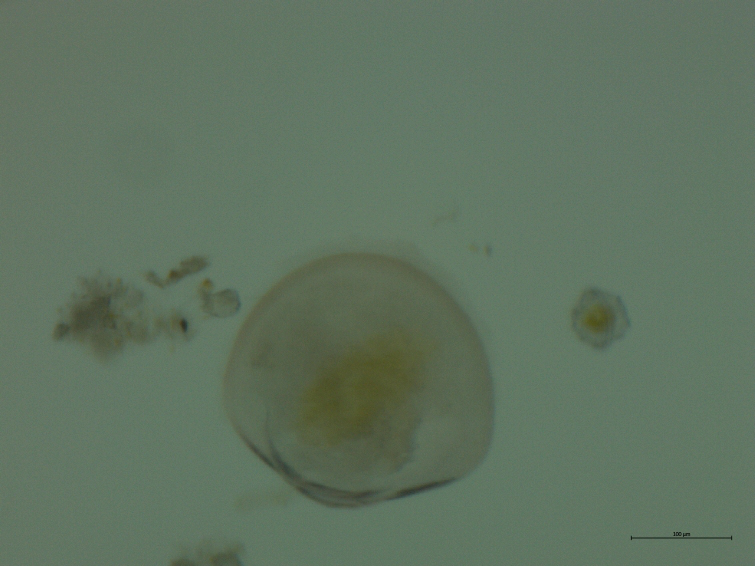oyster: (200, 244, 511, 517)
